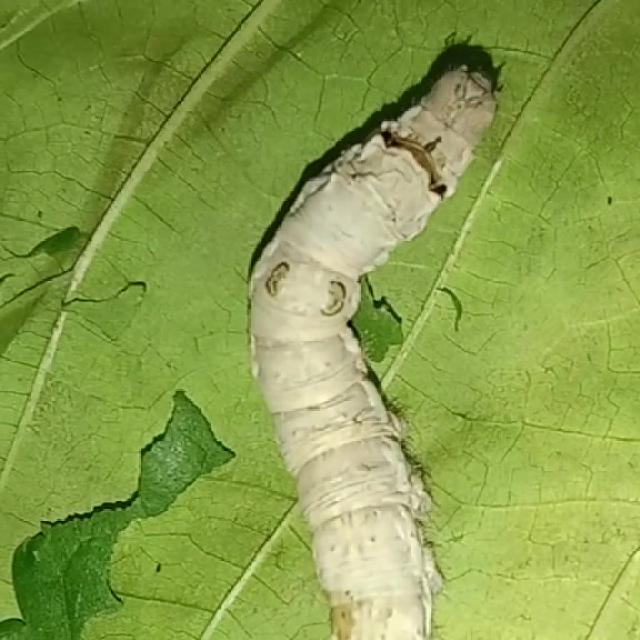Grasserie: (222, 34, 501, 640)
